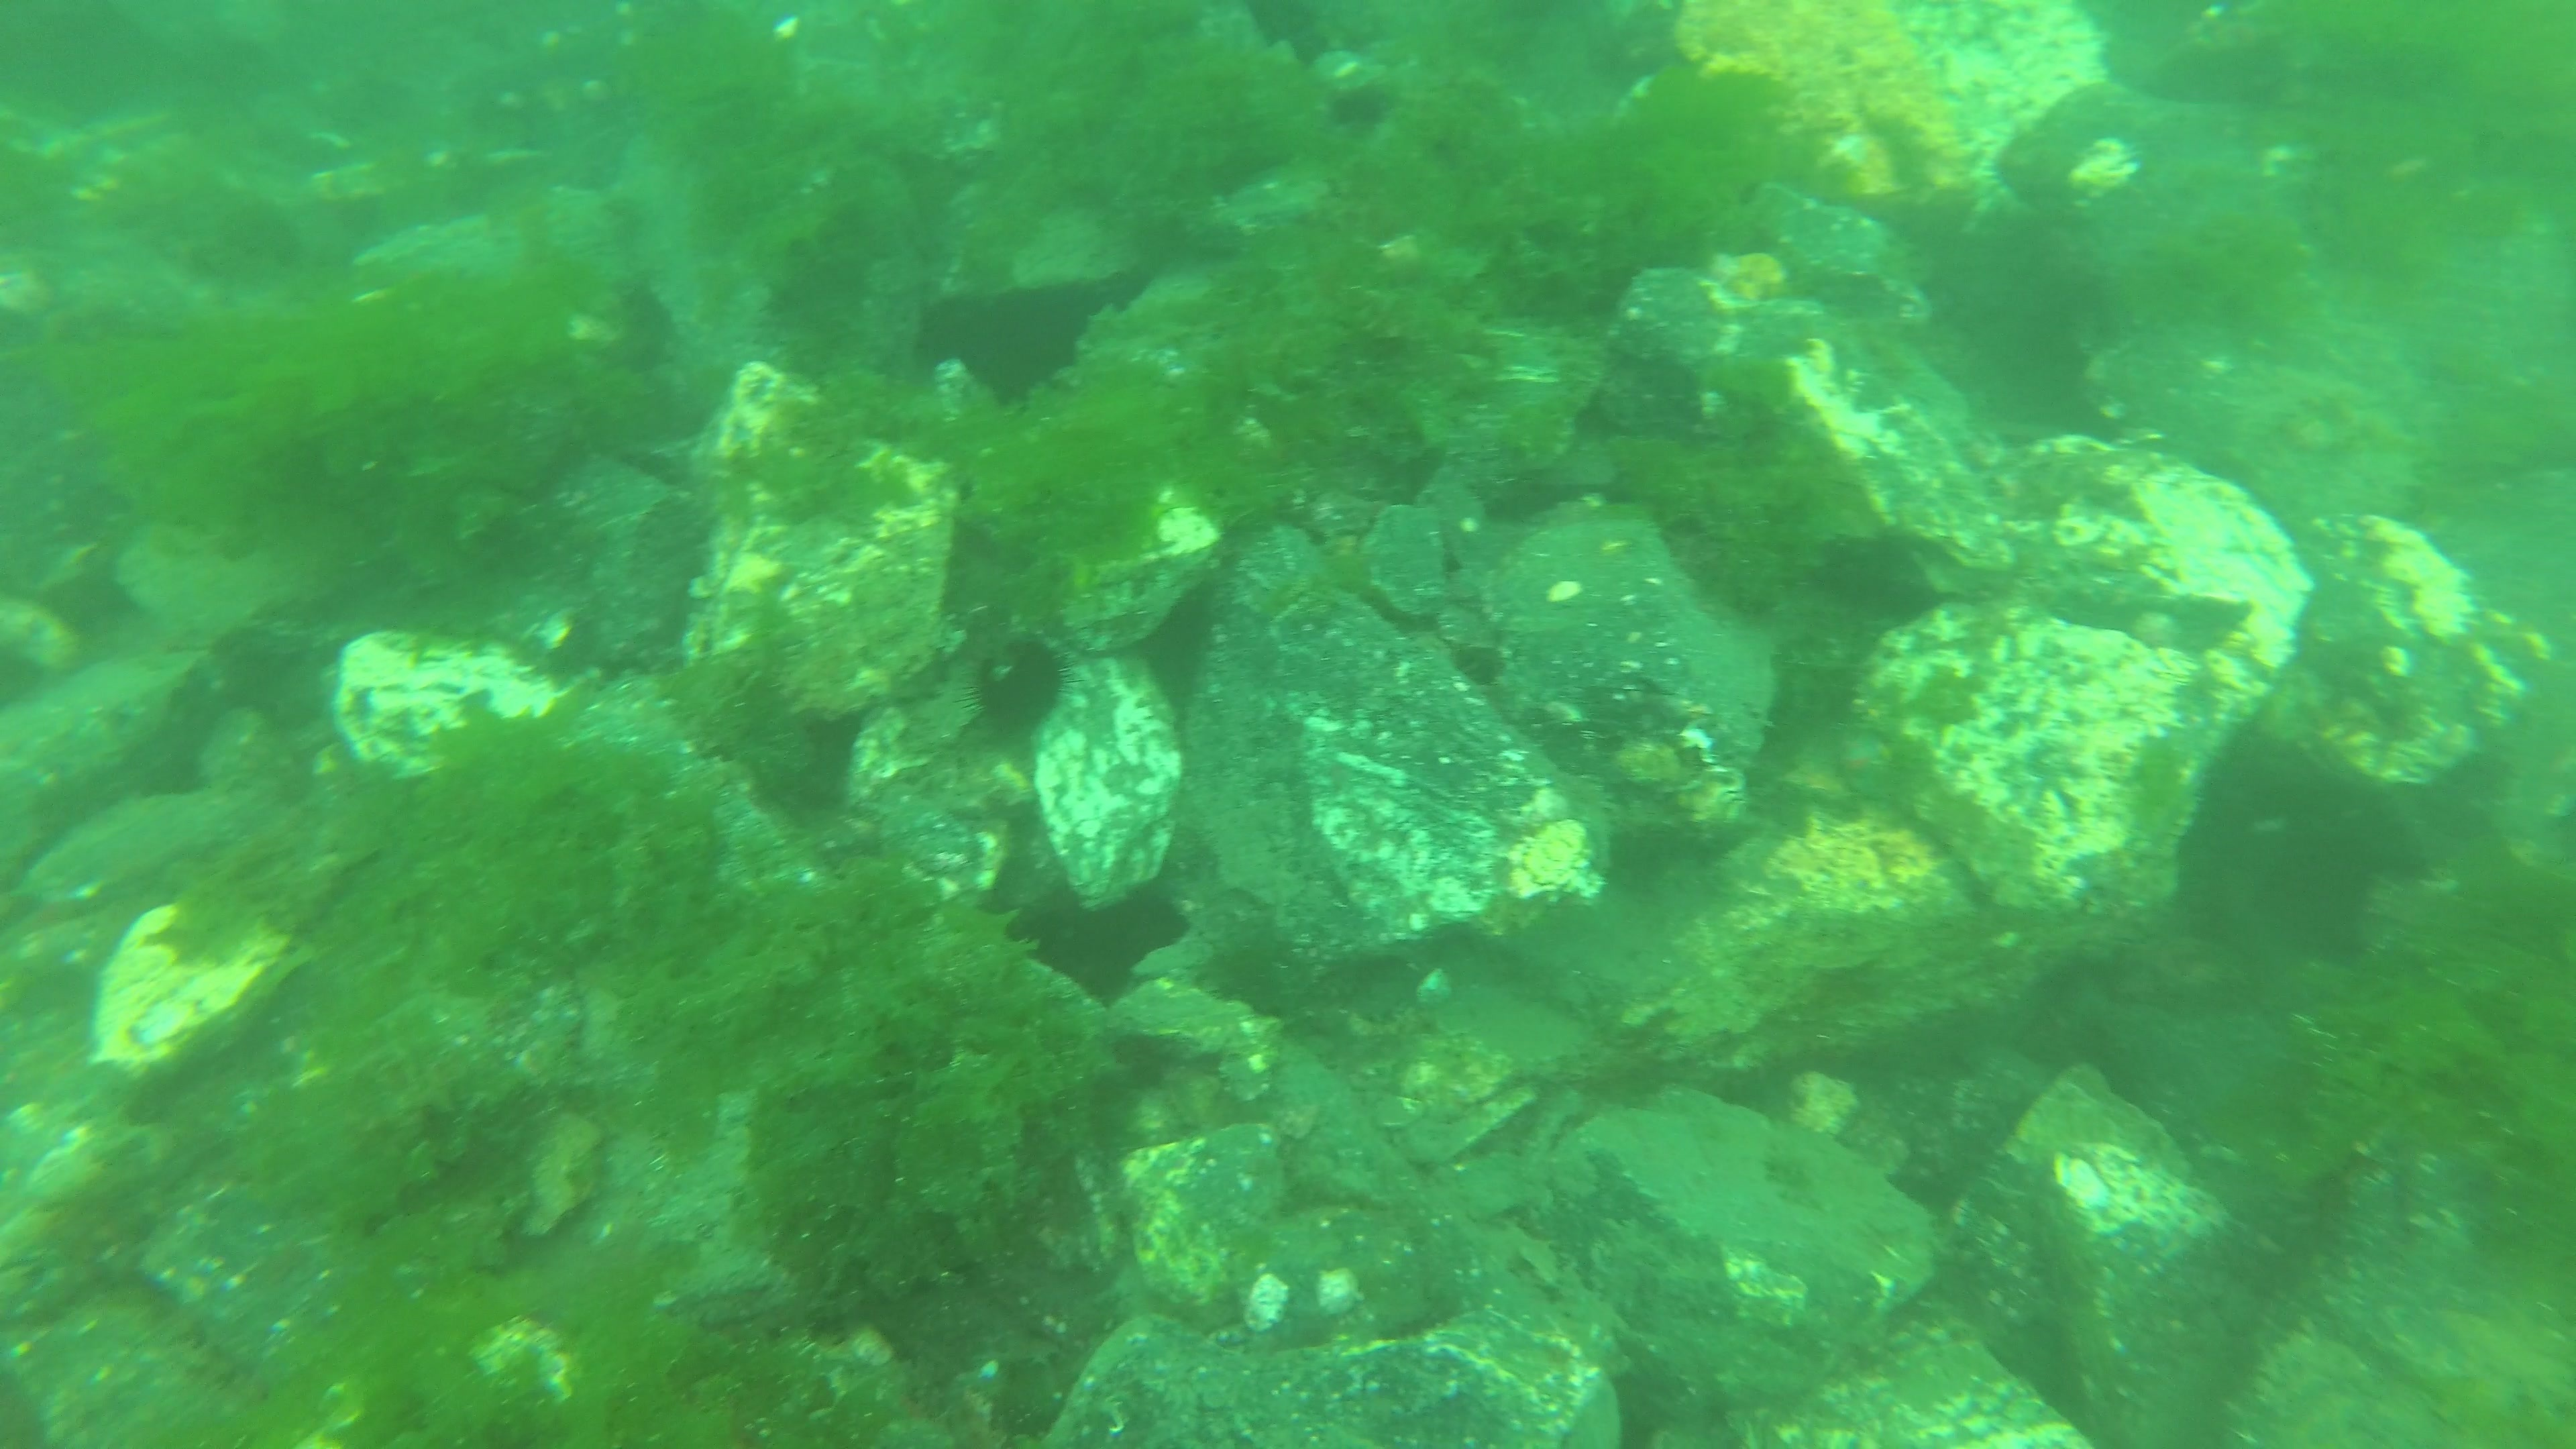echinus: (964, 633, 1074, 732)
